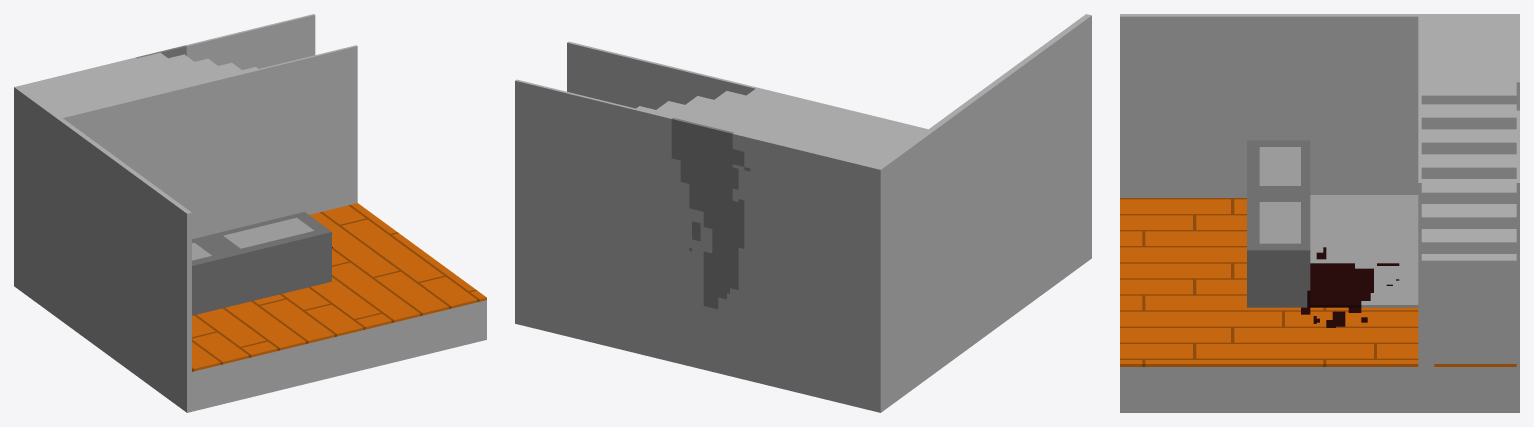
The model's file is 2x2 first 1(1)-0.obj.
3 views of the same model, side by side, from view 1: azimuth 30°, elevation 25°; view 2: azimuth 150°, elevation 25°; view 3: azimuth 270°, elevation 25° (orthographic). The views are drawn at different scales.
Parts seen in each view (by area): view 1: 2x2 first 1(1)-0; view 2: 2x2 first 1(1)-0; view 3: 2x2 first 1(1)-0.
Part boxes in pixels (left/top/right/bottom): 2x2 first 1(1)-0: left=14, top=14, right=486, bottom=412; 2x2 first 1(1)-0: left=515, top=14, right=1091, bottom=412; 2x2 first 1(1)-0: left=1120, top=14, right=1519, bottom=412.
Bounding box in the file's own units: 126 × 80 × 126.
Materials: 1 (1 with a texture image).
